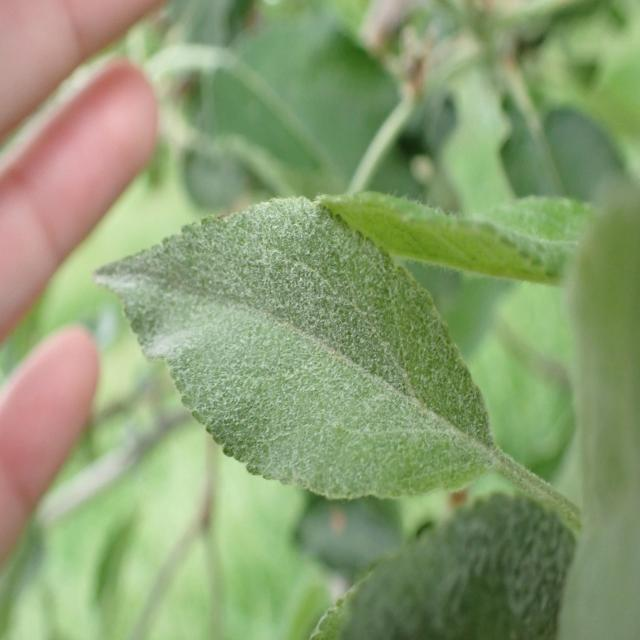Powdery_mildew: (69, 183, 484, 527), (319, 132, 639, 320), (256, 476, 604, 640)
